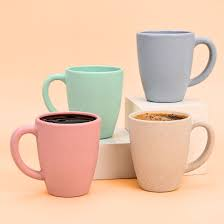mug: (4, 104, 105, 201), (123, 14, 223, 111), (124, 105, 222, 202), (27, 54, 129, 147)
